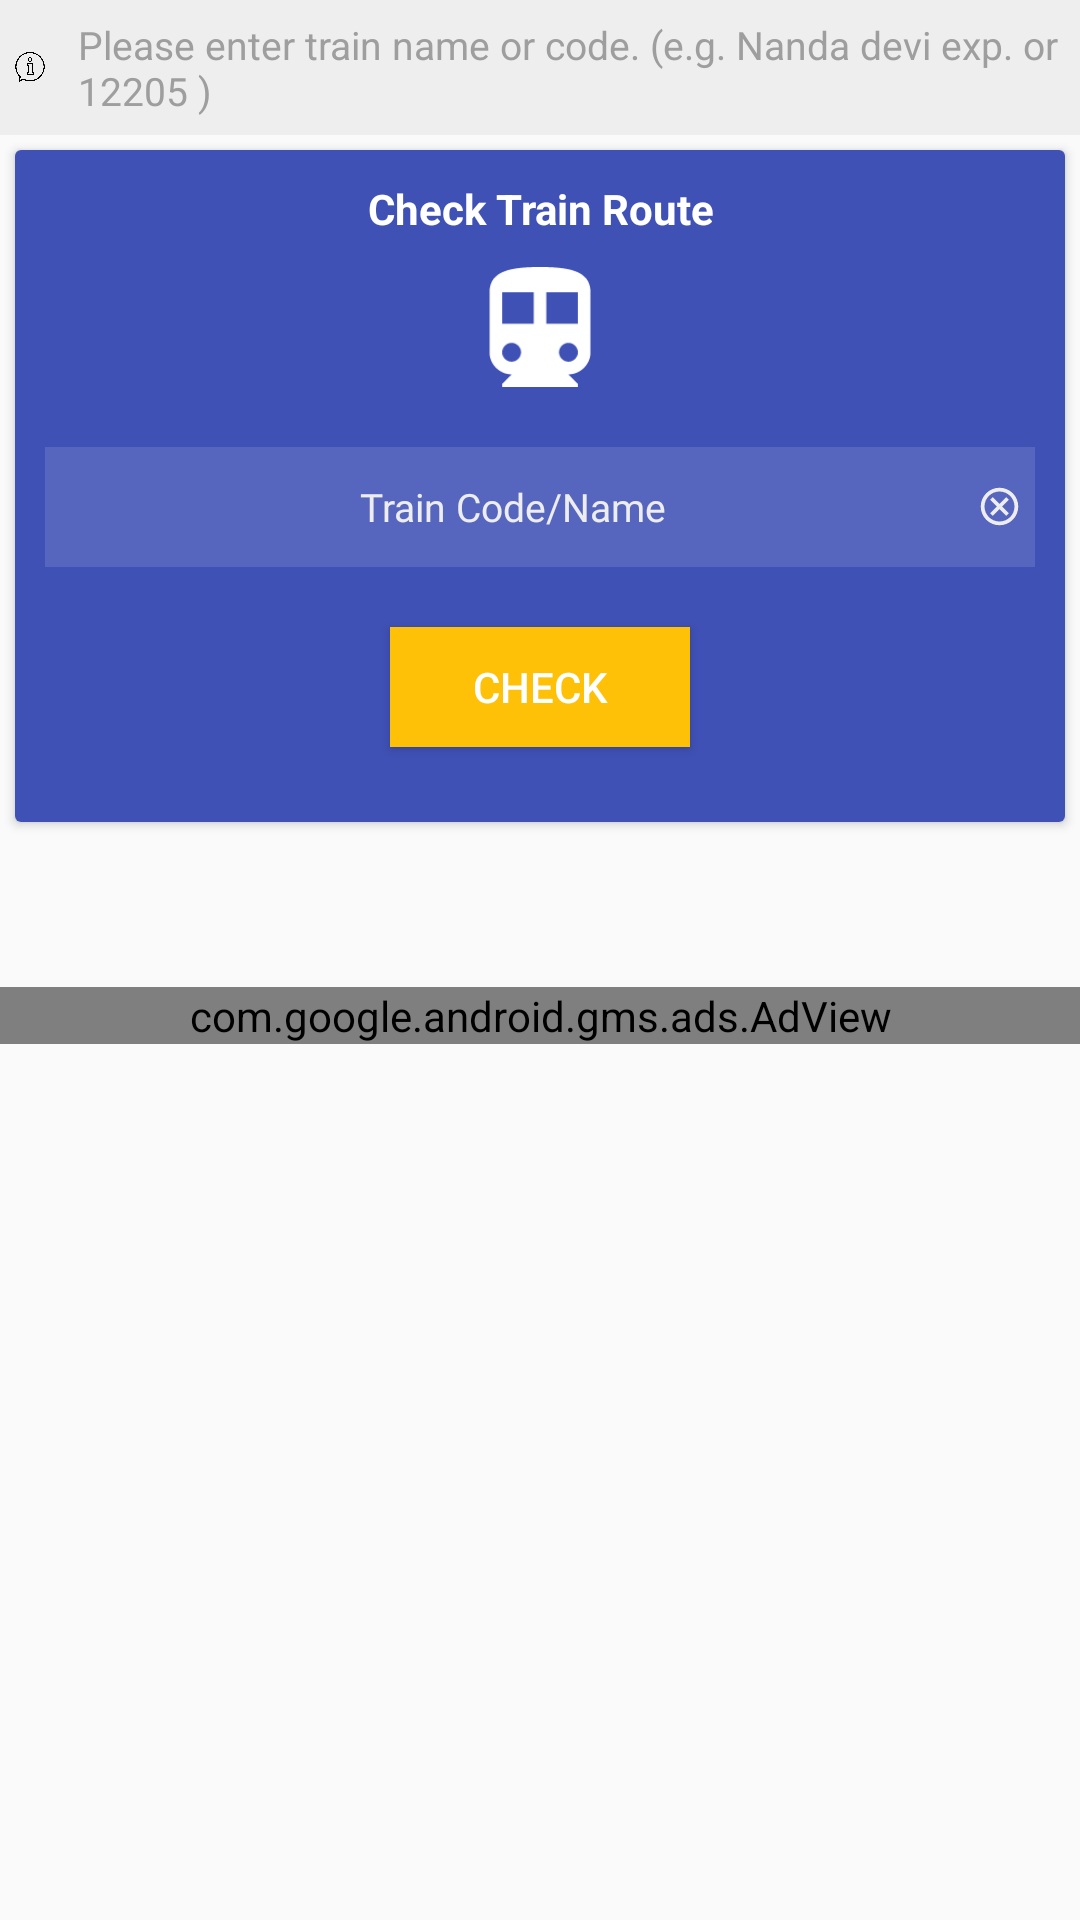

Locate icon controls on the screen. Image size 1080×1920, boxes as bbox(x1, y1, x2, y2).
cancel: bbox(980, 487, 1019, 526)
help: bbox(15, 52, 45, 82)
